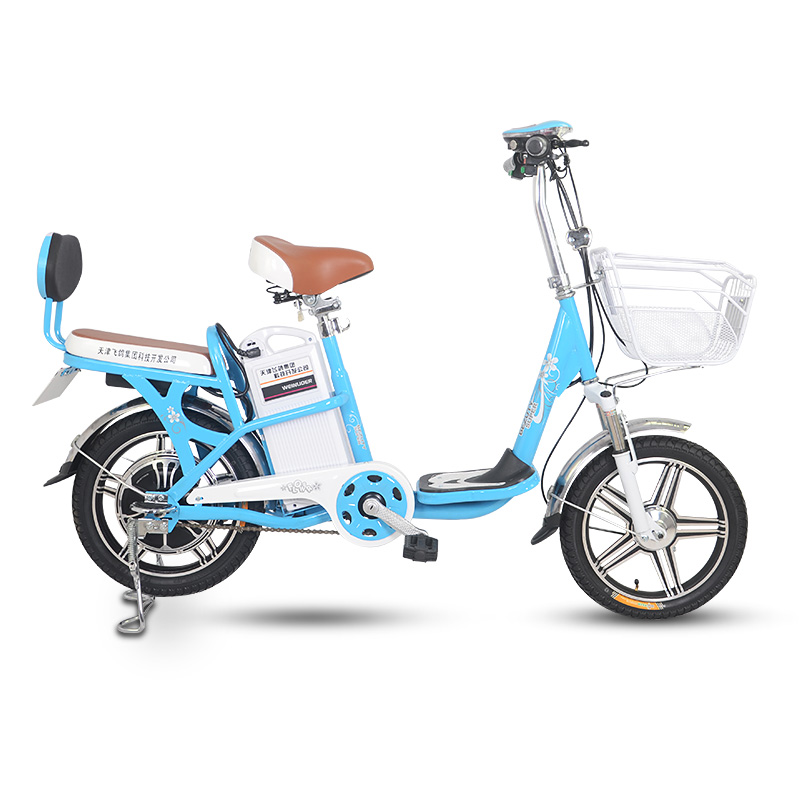电动车: (19, 107, 771, 651)
